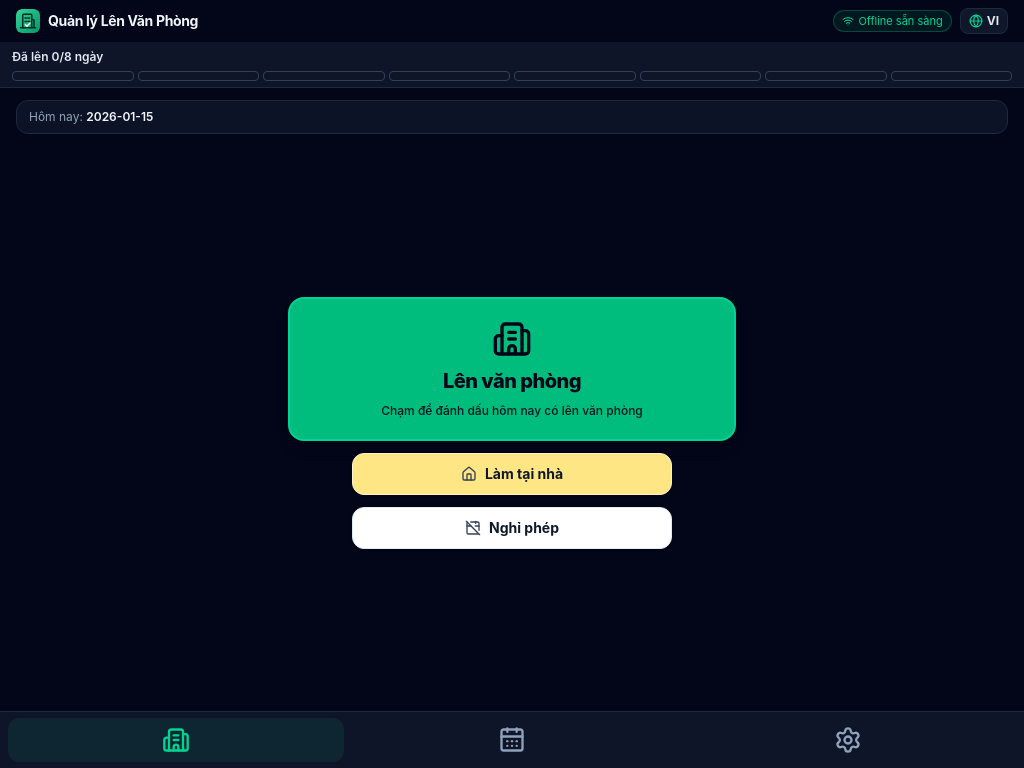
Full App UI Integration Tests (MainTab, CalendarTab, SettingsTab, TopProgressBar, Bilingual & Swipe) › wraps January <-> December in Calendar and keeps holidays locked
Click the button with test id "tab-btn-calendar" at (512, 740), box [344,718,680,762]
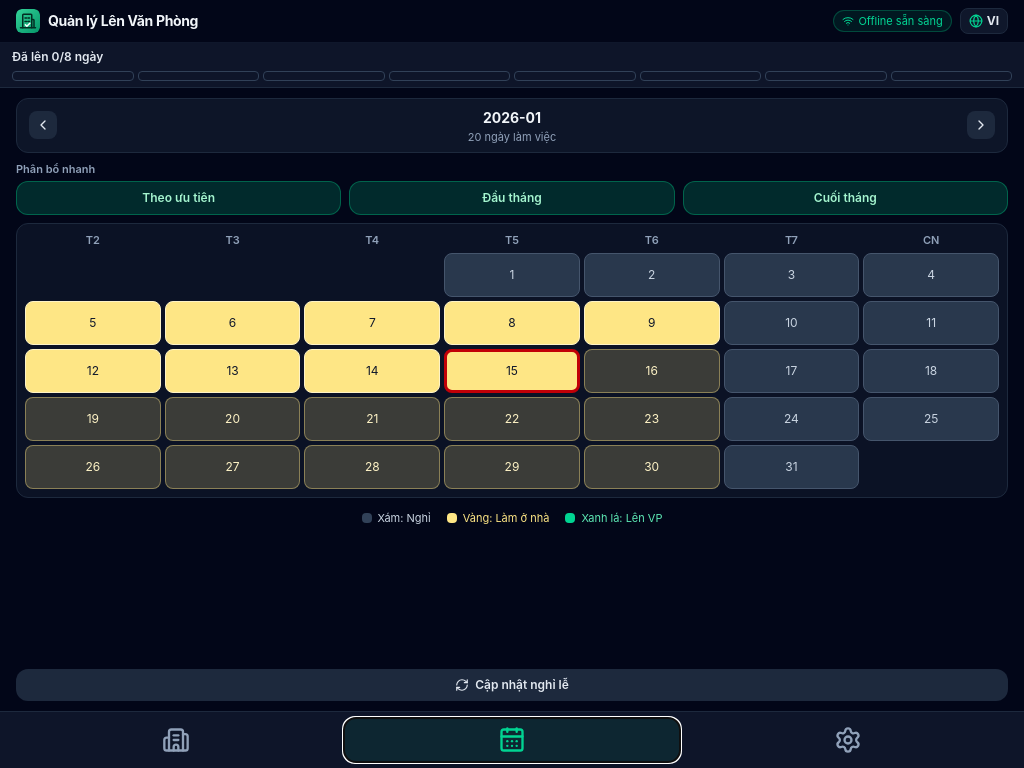
# Holiday cell is locked: tapping does not change its state
Click the button with test id "cal-day-2026-01-01" at (512, 274), box [444,252,580,296]
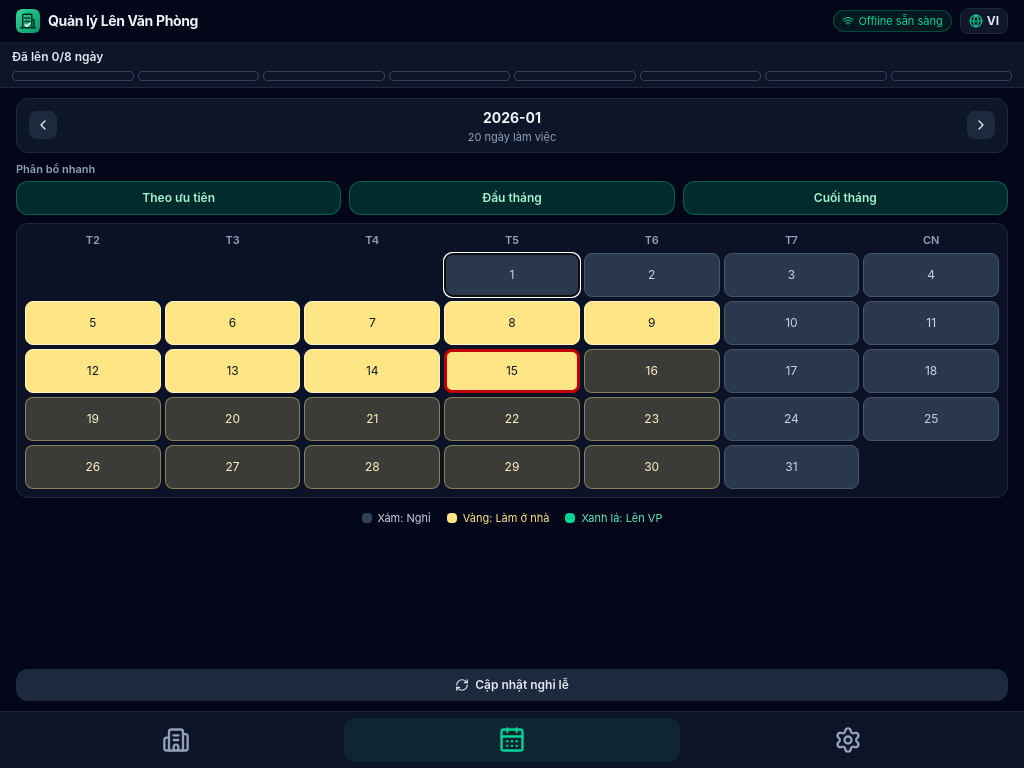
Click the button with test id "btn-prev-month" at (43, 125), box [29,111,57,139]
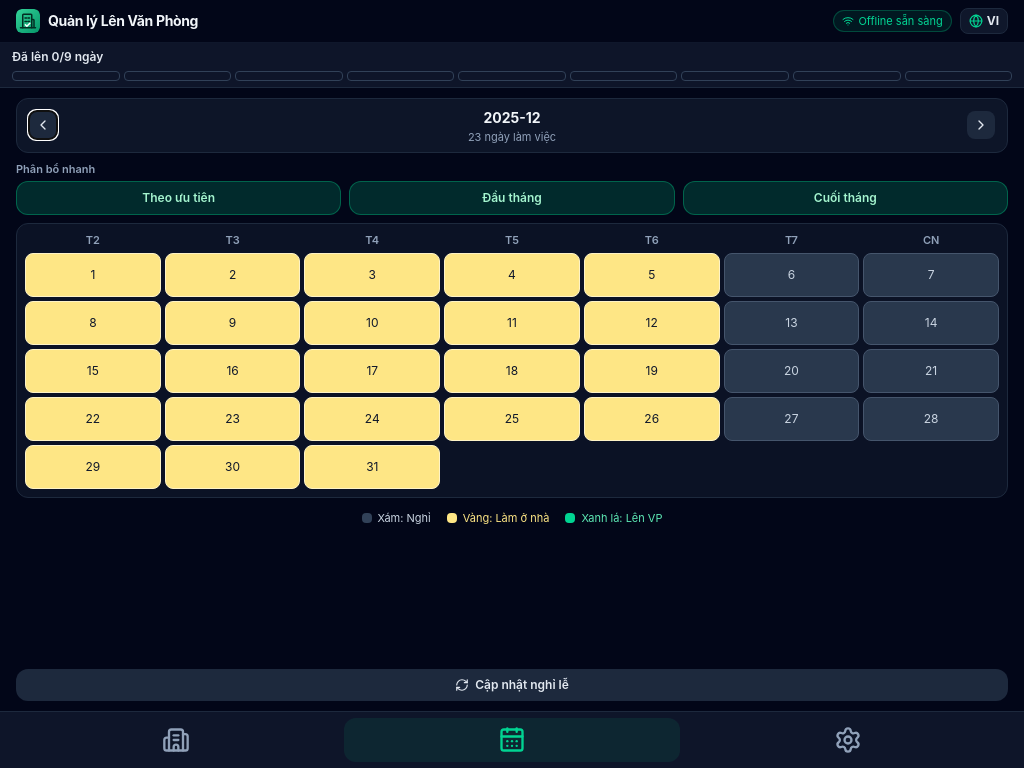
Check: the button with test id "calendar-month-label" reads "2025-12", box [475,108,549,128]
Click the button with test id "btn-next-month" at (981, 125), box [967,111,995,139]
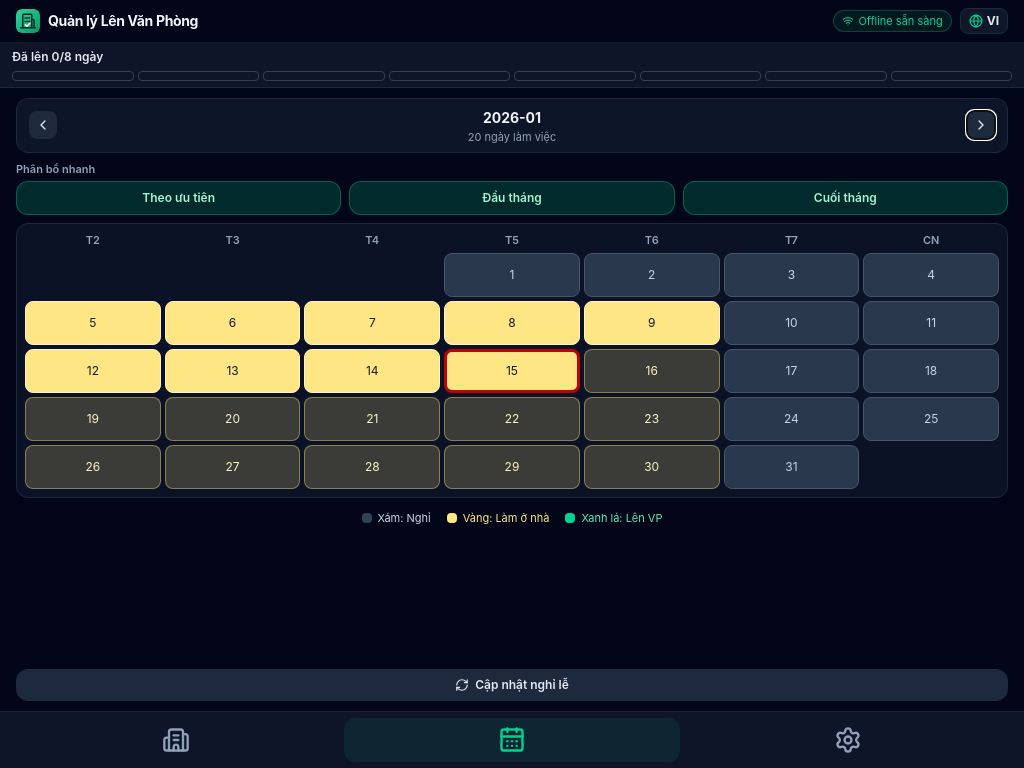
Check: the button with test id "calendar-month-label" reads "2026-01", box [475,108,549,128]
